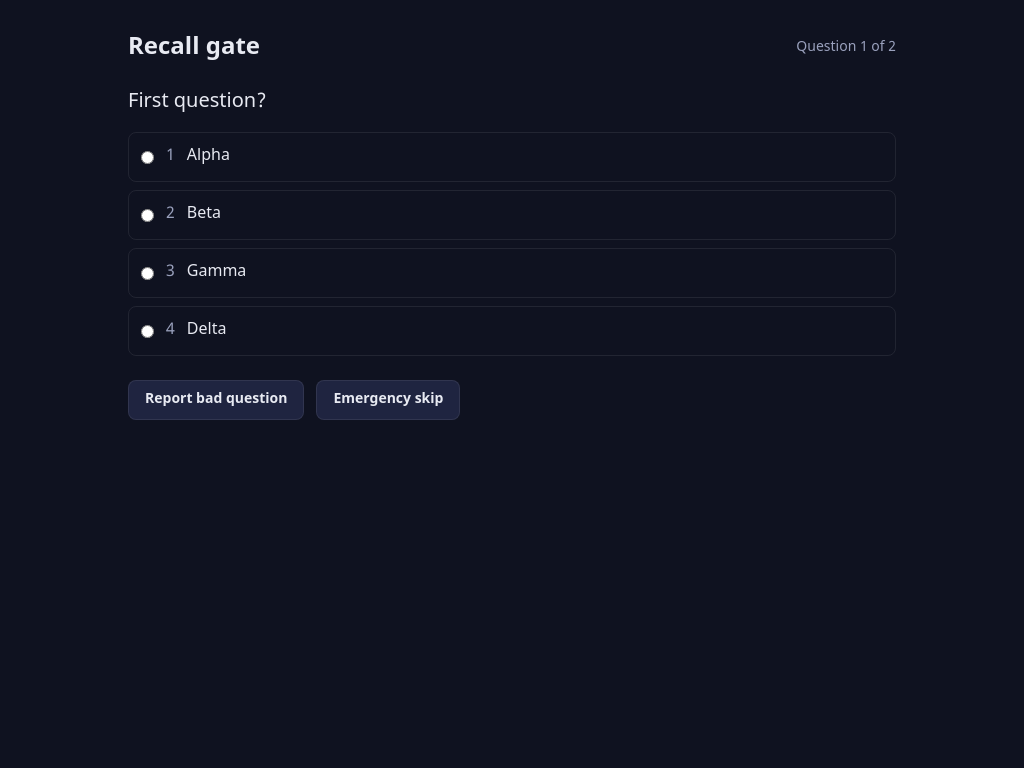
Scenario: GateView › emergency skip asks for confirmation and states the cost
Expected: the text "First question?" is shown, 128,89 -> 266,115
Click the button "Emergency skip": (388, 400) 316,380 -> 460,420
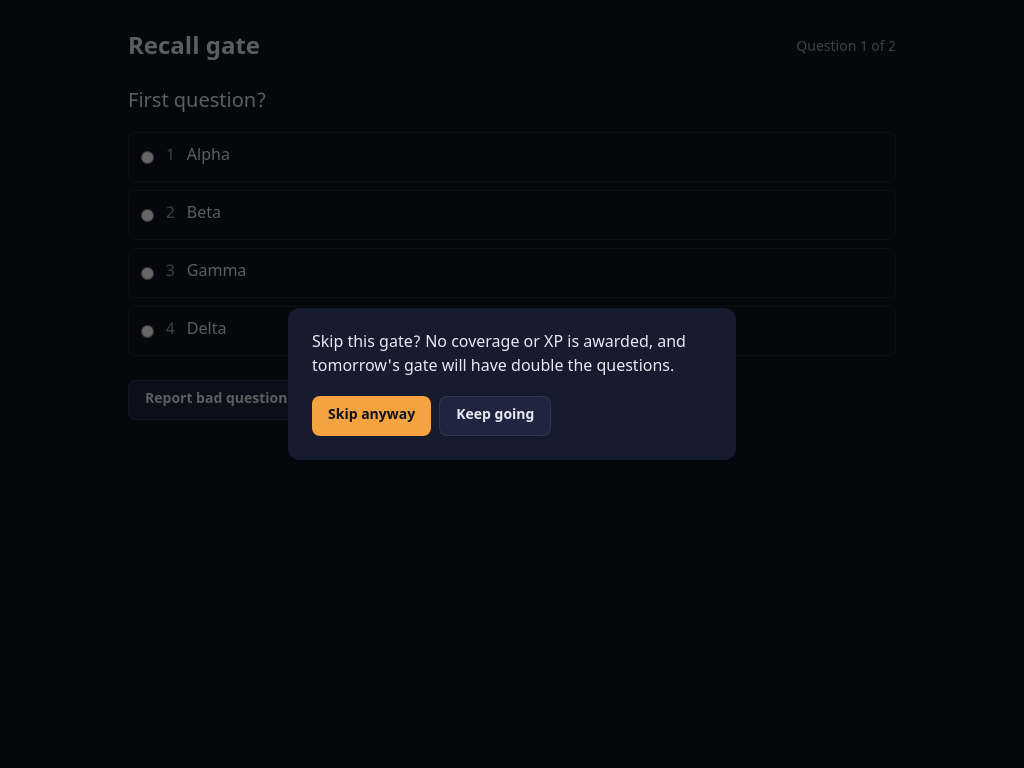
Expected: the dialog shows "No coverage", 312,333 -> 686,378
Expected: the dialog shows "double", 312,333 -> 686,378
Click the button "Skip anyway": (372, 416) 312,396 -> 431,436
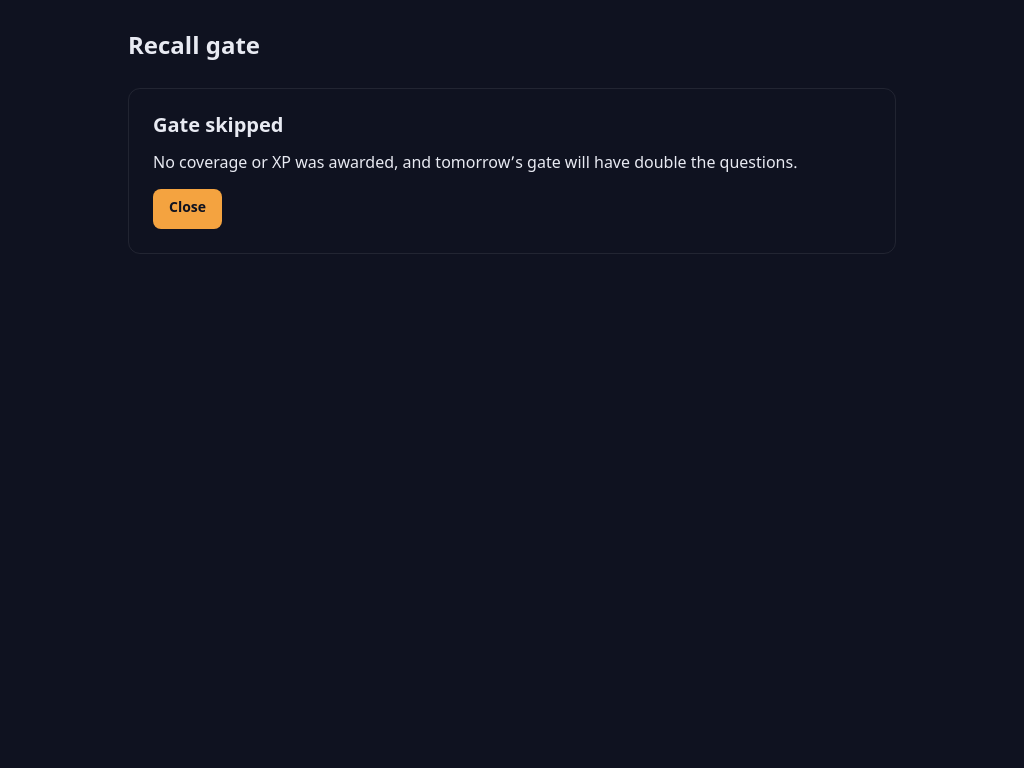
Expected: the heading "Gate skipped" is shown, 153,113 -> 284,141
